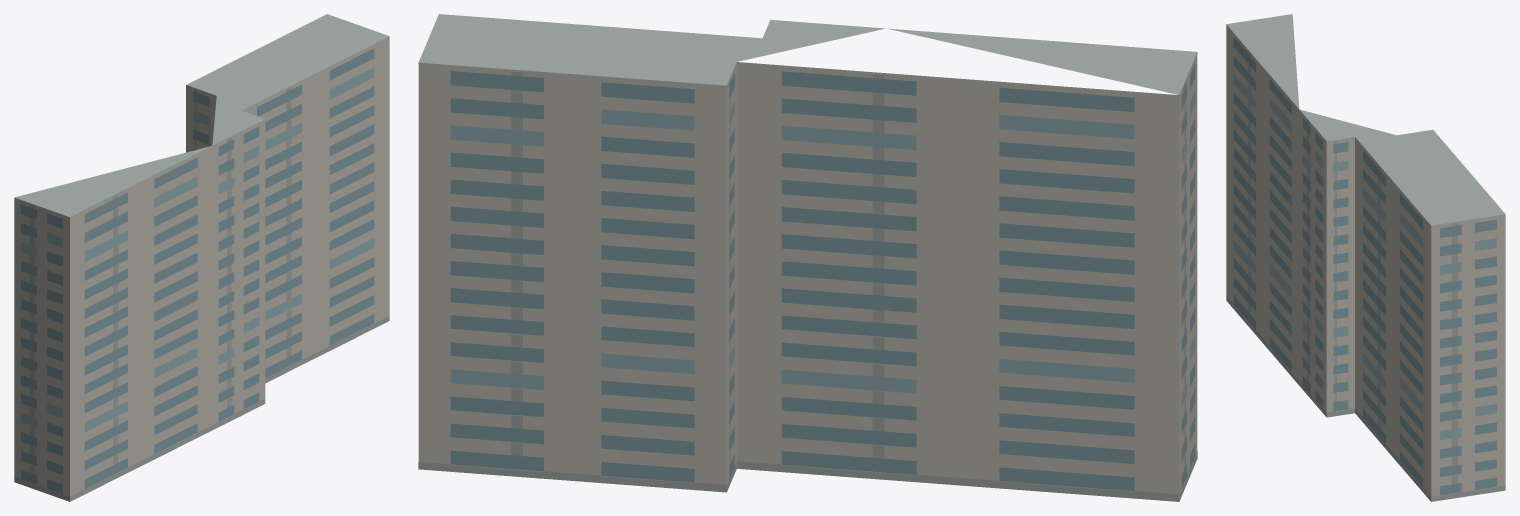
Rendered from residential-e5facc0d-0095-4c8e-9c87-f0c065f36740.glb.
3 views of the same model, side by side, from view 1: azimuth 30°, elevation 25°; view 2: azimuth 150°, elevation 25°; view 3: azimuth 270°, elevation 25° (orthographic). The views are drawn at different scales.
Visible parts, largest first — view 1: residential-e5facc0d-0095-4c8e-9c87-f0c065f36740.tmp; view 2: residential-e5facc0d-0095-4c8e-9c87-f0c065f36740.tmp; view 3: residential-e5facc0d-0095-4c8e-9c87-f0c065f36740.tmp.
Boxes of the visible parts, x1=… form: residential-e5facc0d-0095-4c8e-9c87-f0c065f36740.tmp: x1=14, y1=14, x2=389, y2=501; residential-e5facc0d-0095-4c8e-9c87-f0c065f36740.tmp: x1=418, y1=14, x2=1197, y2=501; residential-e5facc0d-0095-4c8e-9c87-f0c065f36740.tmp: x1=1226, y1=14, x2=1505, y2=501.
Bounding box in the file's own units: 75.15 × 45.75 × 41.95.
